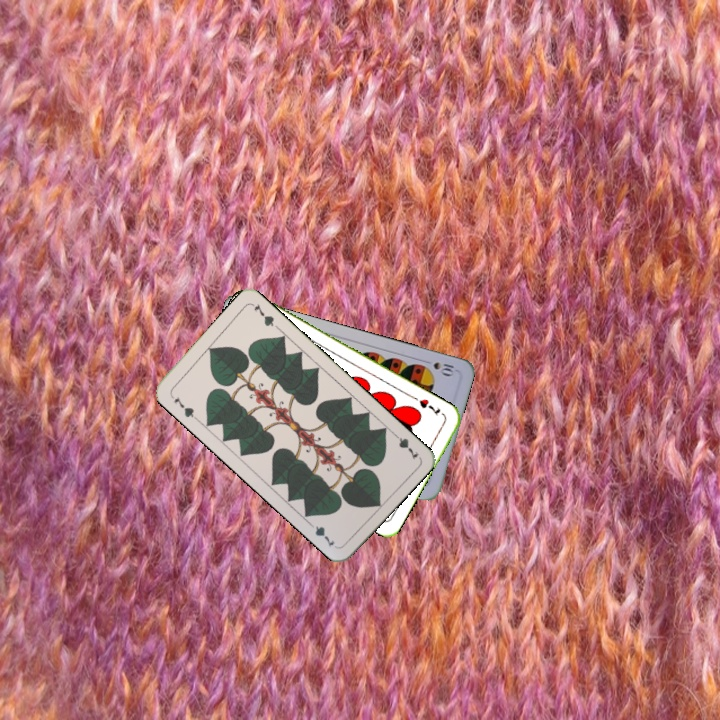G7: (388, 428, 421, 462), (170, 392, 200, 422)
H7: (410, 393, 443, 418)
S10: (419, 356, 459, 379)
